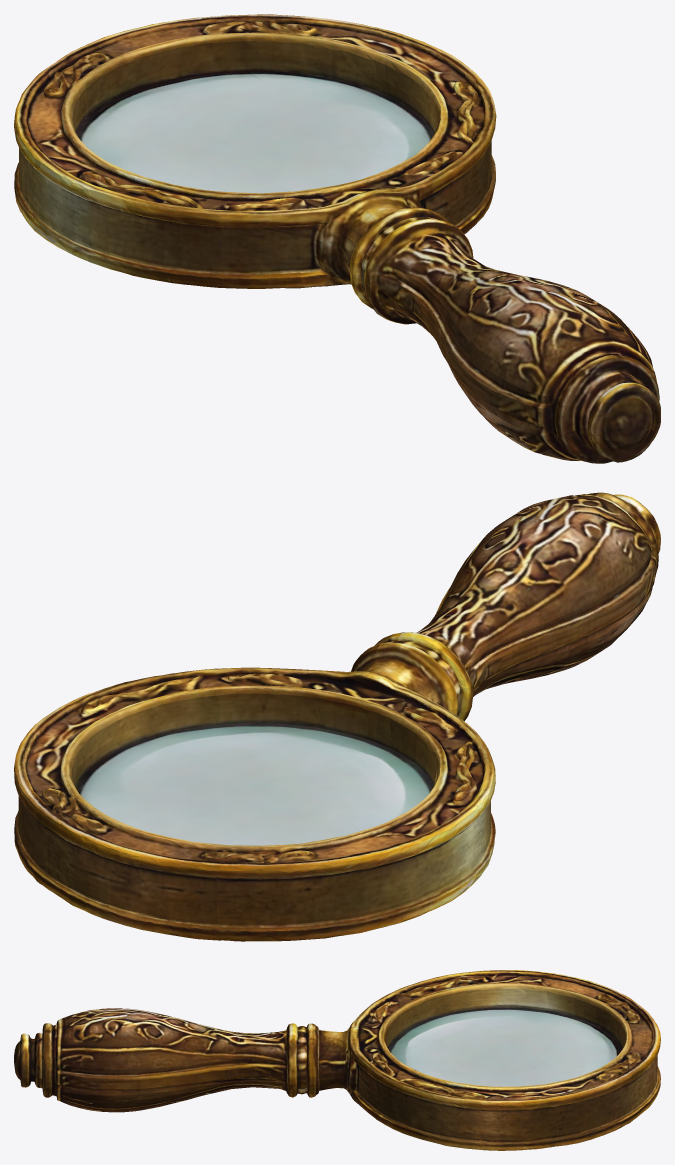
The model's file is appraisal-lens.glb.
3 views of the same model, one above another, from view 1: azimuth 30°, elevation 25°; view 2: azimuth 150°, elevation 25°; view 3: azimuth 270°, elevation 25° (orthographic). The views are drawn at different scales.
Bounding box in the file's own units: 0.488 × 0.1608 × 0.9997.
1 material, 1 textured.
